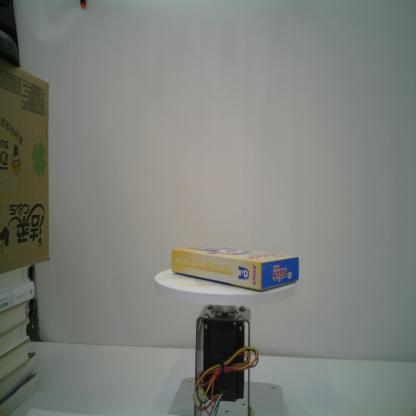Dessert: (170, 244, 300, 292)
